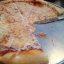pizza: (1, 1, 53, 62)
